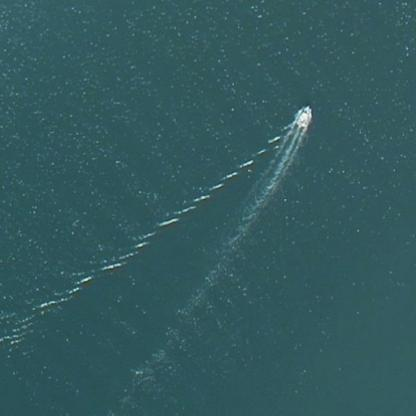ship: (288, 98, 314, 130)
